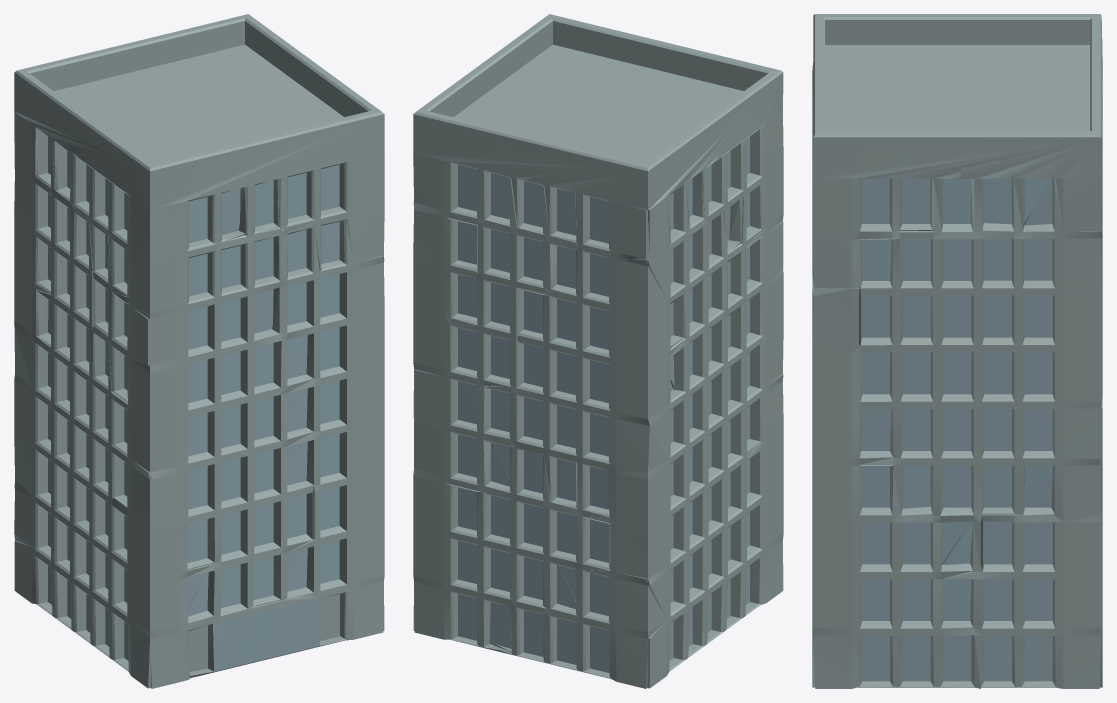
The model's file is building1.fbx.
The picture shows the model from 3 angles, left to right: view 1: azimuth 30°, elevation 25°; view 2: azimuth 150°, elevation 25°; view 3: azimuth 270°, elevation 25°; orthographic projection. The views are drawn at different scales.
Visible parts, largest first — view 1: building1_shatter77, building1_shatter32, building1_shatter74, building1_shatter37, building1_shatter24, building1_shatter31, building1_shatter21, building1_shatter33, building1_shatter41, building1_shatter40, building1_shatter19, building1_shatter75 (+19 smaller); view 2: building1_shatter43, building1_shatter23, building1_shatter68, building1_shatter70, building1_shatter25, building1_shatter71, building1_shatter61, building1_shatter22, building1_shatter69, building1_shatter65, building1_shatter24, building1_shatter16 (+25 smaller); view 3: building1_shatter42, building1_shatter76, building1_shatter25, building1_shatter62, building1_shatter38, building1_shatter79, building1_shatter60, building1_shatter50, building1_shatter46, building1_shatter24, building1_shatter53, building1_shatter52 (+16 smaller).
Boxes of the visible parts, x1,y1,x2,y2 form: building1_shatter77: [131, 287, 313, 426]; building1_shatter32: [131, 388, 313, 524]; building1_shatter74: [260, 110, 384, 270]; building1_shatter37: [189, 529, 384, 678]; building1_shatter24: [54, 44, 343, 127]; building1_shatter31: [182, 491, 318, 623]; building1_shatter21: [92, 545, 219, 688]; building1_shatter33: [150, 179, 280, 319]; building1_shatter41: [272, 219, 384, 340]; building1_shatter40: [287, 316, 384, 446]; building1_shatter19: [92, 438, 214, 585]; building1_shatter75: [150, 137, 265, 250]; building1_shatter43: [494, 525, 666, 688]; building1_shatter23: [414, 317, 517, 492]; building1_shatter68: [577, 355, 674, 515]; building1_shatter70: [531, 137, 649, 265]; building1_shatter25: [553, 44, 743, 163]; building1_shatter71: [413, 110, 535, 227]; building1_shatter61: [413, 529, 511, 653]; building1_shatter22: [450, 173, 577, 340]; building1_shatter69: [577, 243, 685, 372]; building1_shatter65: [511, 446, 610, 570]; building1_shatter24: [454, 45, 624, 158]; building1_shatter16: [610, 503, 689, 688]; building1_shatter42: [813, 578, 980, 688]; building1_shatter76: [813, 131, 960, 295]; building1_shatter25: [825, 45, 1089, 130]; building1_shatter62: [970, 578, 1102, 688]; building1_shatter38: [813, 465, 973, 579]; building1_shatter79: [960, 131, 1101, 232]; building1_shatter60: [941, 465, 1101, 579]; building1_shatter50: [941, 345, 1022, 458]; building1_shatter46: [1022, 334, 1102, 458]; building1_shatter24: [887, 45, 1089, 130]; building1_shatter53: [859, 238, 941, 345]; building1_shatter52: [941, 239, 1022, 344].
Bounding box in the file's own units: 10.35 × 21.76 × 10.35.
